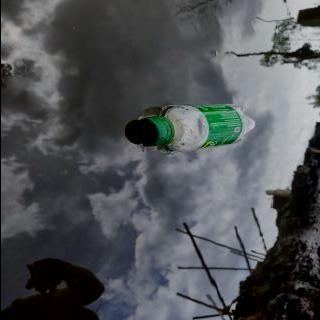bottle: (134, 102, 257, 154)
